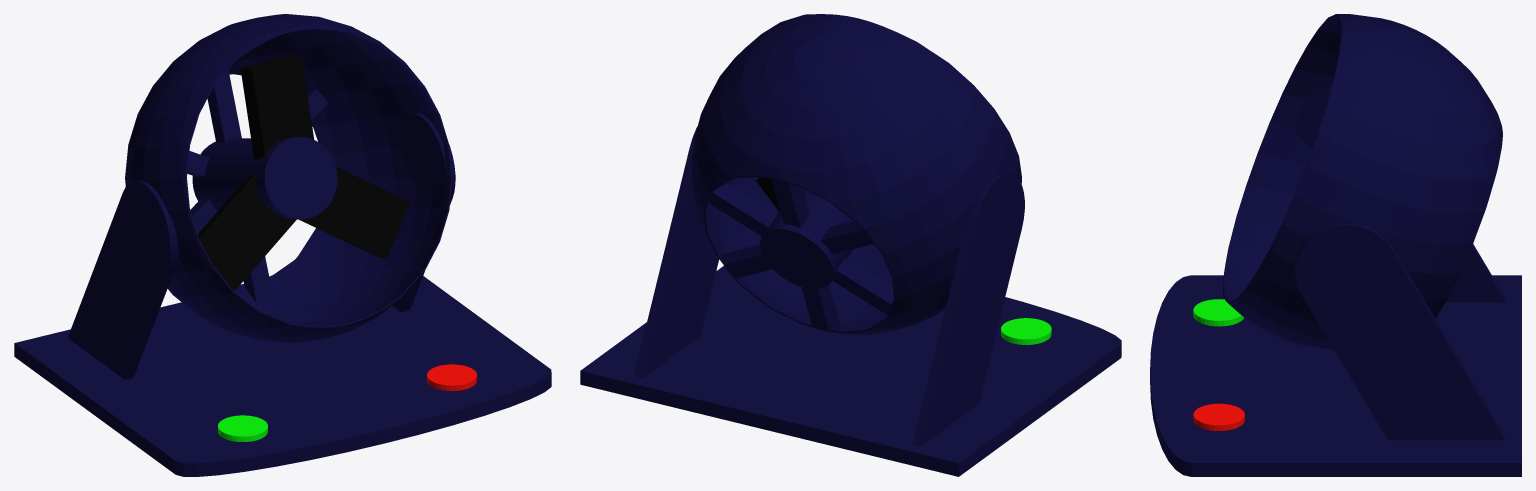
File: deskfan2.fbx
The picture shows the model from 3 angles, left to right: view 1: azimuth 30°, elevation 25°; view 2: azimuth 150°, elevation 25°; view 3: azimuth 270°, elevation 25°; orthographic projection. The views are drawn at different scales.
Visible parts, largest first — view 1: Cube, Sphere, Cube.001, Cylinder, Cube.008, Cube.006, Cube.007, Cube.002, Cube.004, Cylinder.001, Cylinder.002, Cube.005; view 2: Sphere, Cube, Cube.001, Cube.002, Cylinder, Cube.005, Cube.004, Cube.003, Cylinder.001; view 3: Sphere, Cube, Cube.002, Cube.001, Cylinder.002, Cylinder.001.
Boxes of the visible parts, box(x1,y1,x2,y2) form: Cube: box(14, 276, 551, 476); Sphere: box(125, 14, 452, 342); Cube.001: box(67, 180, 178, 379); Cylinder: box(192, 137, 337, 219); Cube.008: box(197, 174, 296, 290); Cube.006: box(240, 55, 313, 219); Cube.007: box(298, 167, 410, 259); Cube.002: box(392, 113, 455, 312); Cube.004: box(207, 70, 273, 303); Cylinder.001: box(218, 415, 267, 441); Cylinder.002: box(427, 364, 476, 390); Cube.005: box(190, 89, 328, 233); Sphere: box(692, 14, 1021, 334); Cube: box(580, 266, 1121, 476); Cube.001: box(912, 173, 1024, 445); Cube.002: box(634, 126, 719, 377); Cylinder: box(760, 188, 853, 288); Cube.005: box(708, 183, 893, 314); Cube.004: box(771, 179, 841, 330); Cube.003: box(721, 221, 873, 278); Cylinder.001: box(1001, 318, 1051, 344); Sphere: box(1223, 14, 1502, 349); Cube: box(1150, 275, 1521, 476); Cube.002: box(1295, 223, 1505, 440); Cube.001: box(1295, 87, 1505, 302); Cylinder.002: box(1193, 403, 1244, 430); Cylinder.001: box(1193, 299, 1244, 326).
Bounding box in the file's own units: 1726 × 1516 × 1445.
